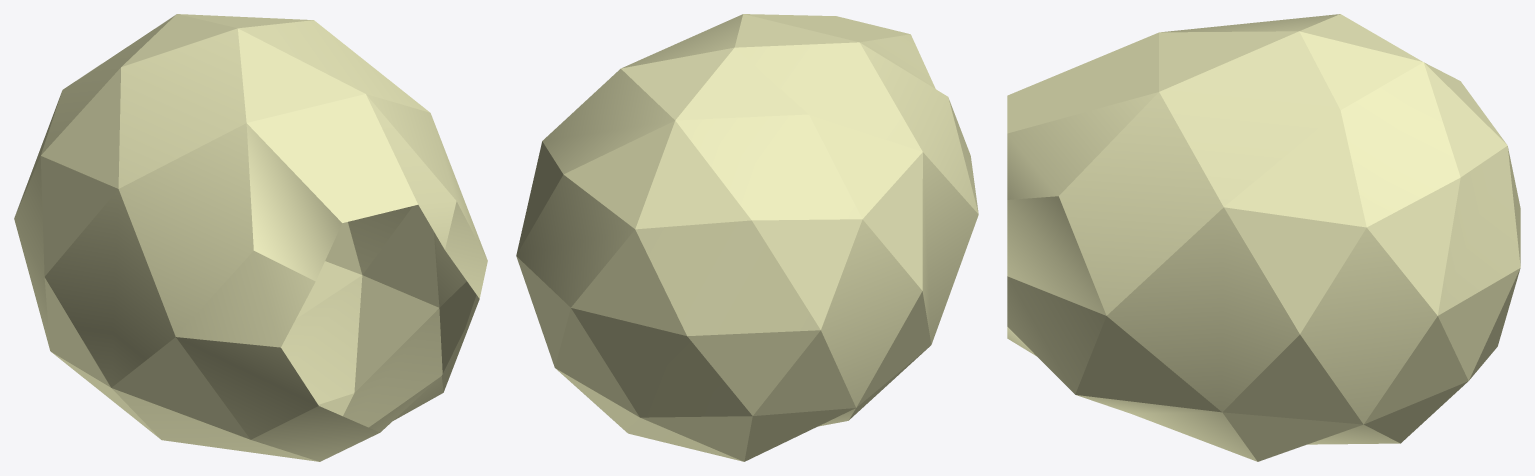
The model's file is Bulb.fbx.
3 renders of one model, left to right at view 1: azimuth 30°, elevation 25°; view 2: azimuth 150°, elevation 25°; view 3: azimuth 270°, elevation 25°, orthographic. The views are drawn at different scales.
Parts seen in each view (by area): view 1: Bulb; view 2: Bulb; view 3: Bulb.
Boxes of the visible parts, x1,y1,x2,y2 form: Bulb: (14,14,487,461); Bulb: (516,14,978,461); Bulb: (1007,14,1520,461).
Bounding box in the file's own units: 40.31 × 40.31 × 45.36.
